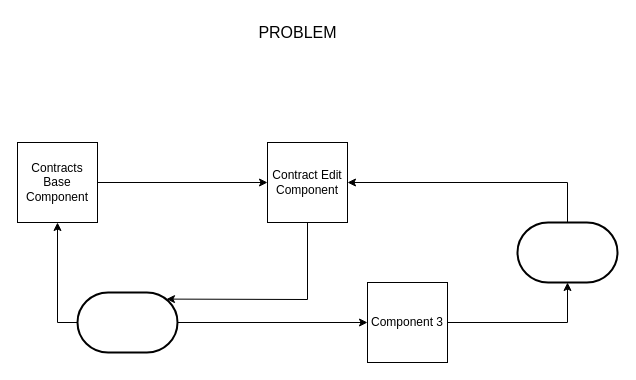
The diagram is 636 pixels wide and 380 high, and some of its shapes have lost their labels. Each missing label, with the centre of its shape:
Any Picklist Service: (x=127, y=322)
Auth/Session Service: (x=567, y=252)
